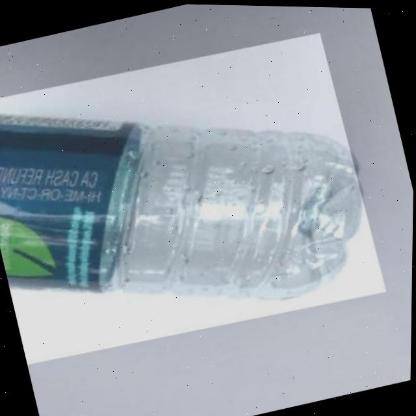Plastic Bottle: (0, 114, 362, 298)
